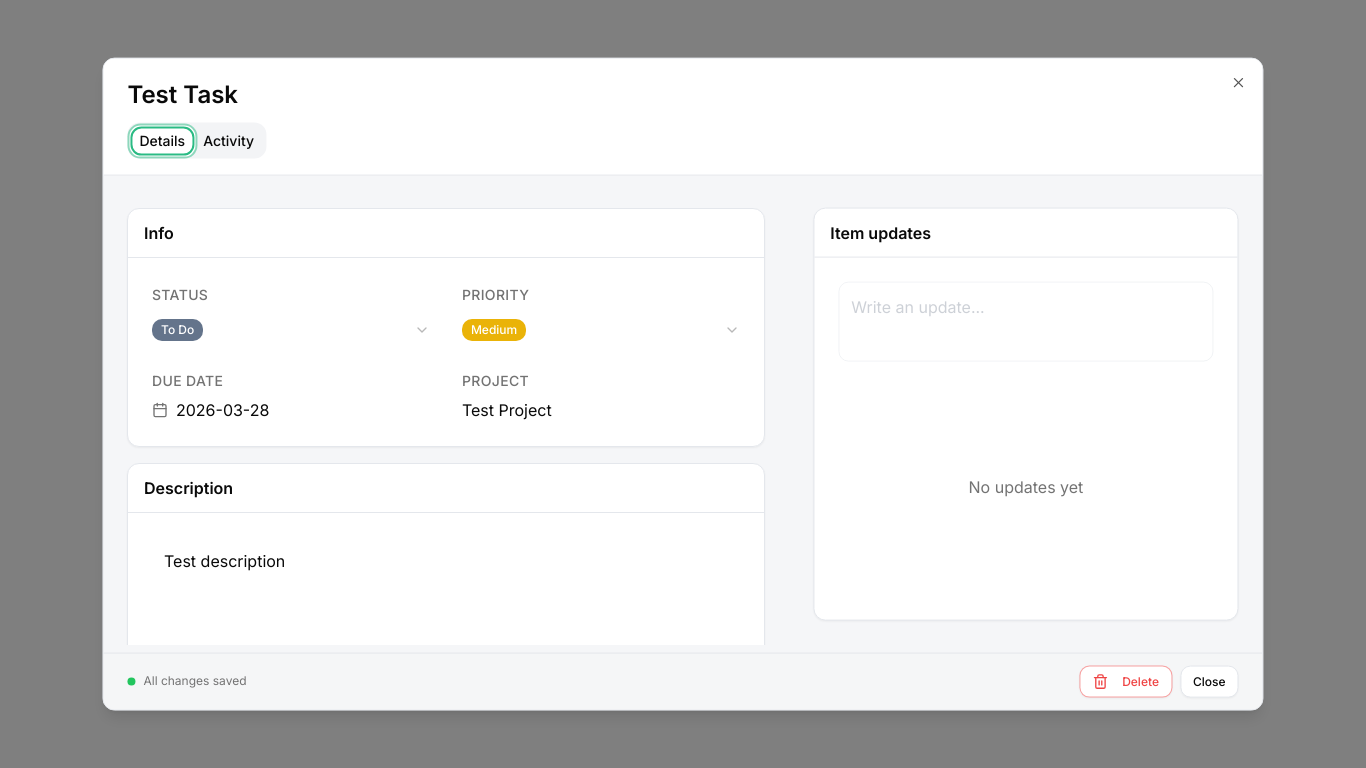
Scenario: KanbanDetailModal › title editing › reverts title if save fails (HTTP error)
Click the heading "Test Task". click: (183, 94)
box: [128, 80, 238, 109]
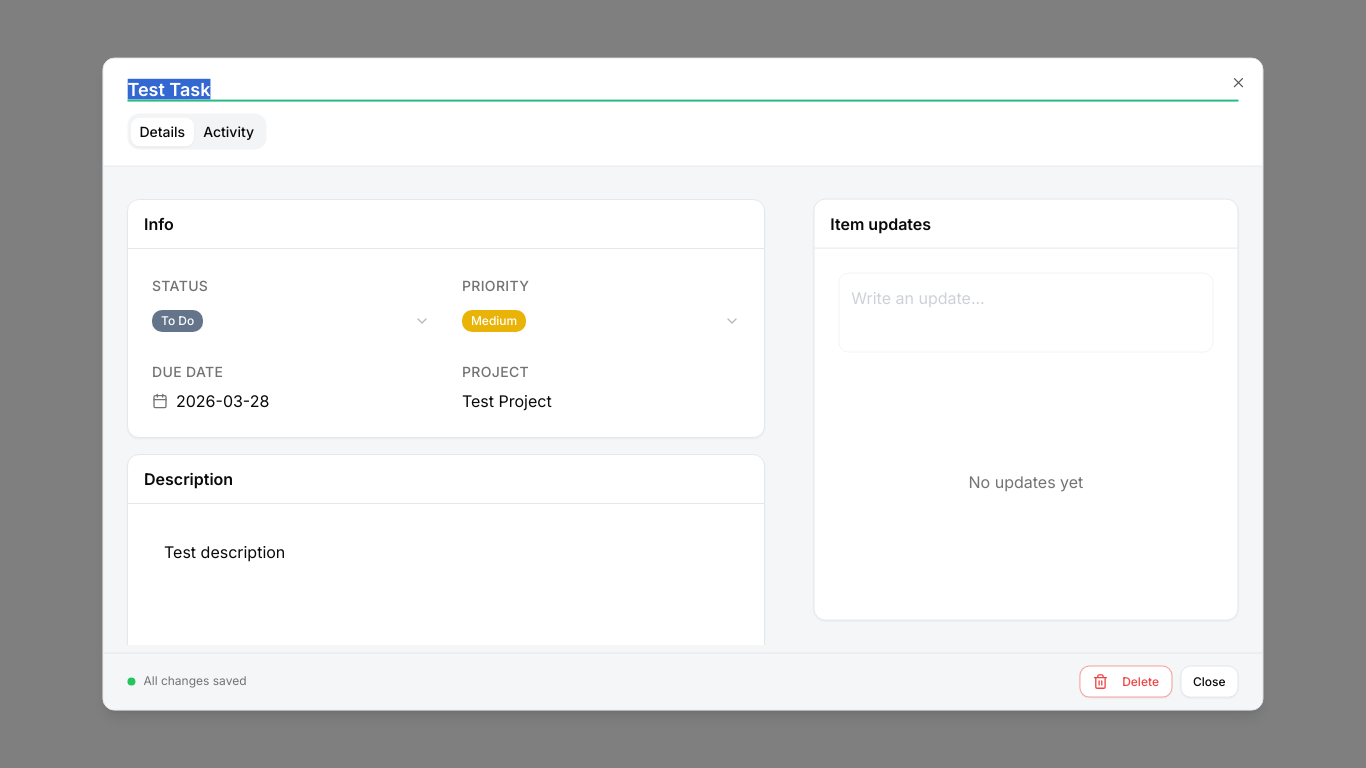
Replace the text in the field showing "Test Task" with "Failed Title". click: (683, 90)
box: [128, 79, 1239, 102]
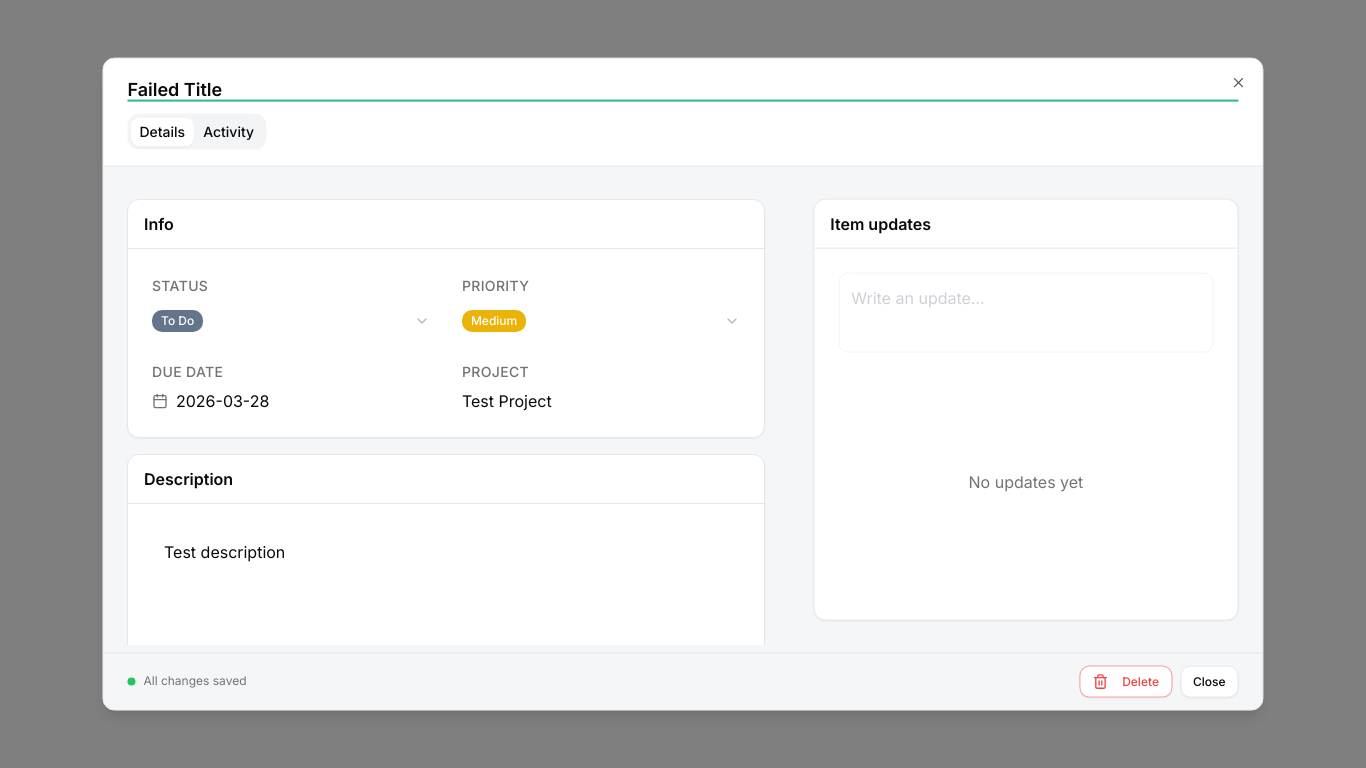
Press Tab
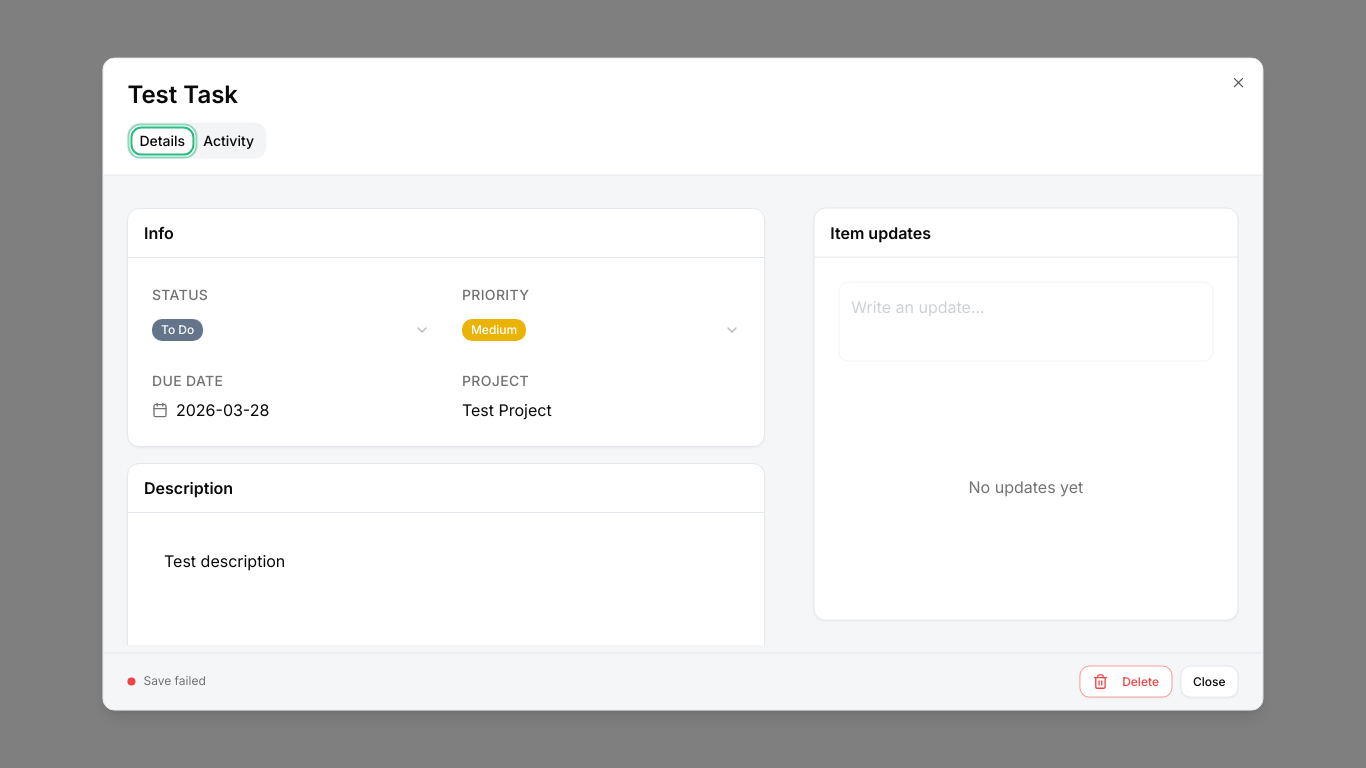
Result: the heading "Test Task" is shown at [128, 80, 238, 109]
